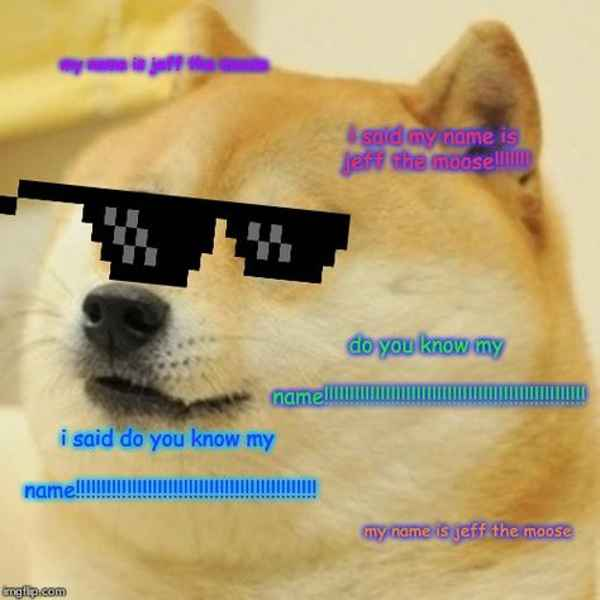doge: (16, 10, 547, 510)
